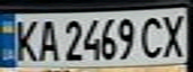2: (60, 16, 84, 62)
4: (81, 16, 103, 62)
6: (100, 15, 121, 61)
9: (115, 15, 139, 61)
A: (33, 16, 60, 63)
C: (136, 13, 166, 60)
K: (9, 16, 42, 63)
X: (157, 10, 193, 58)
